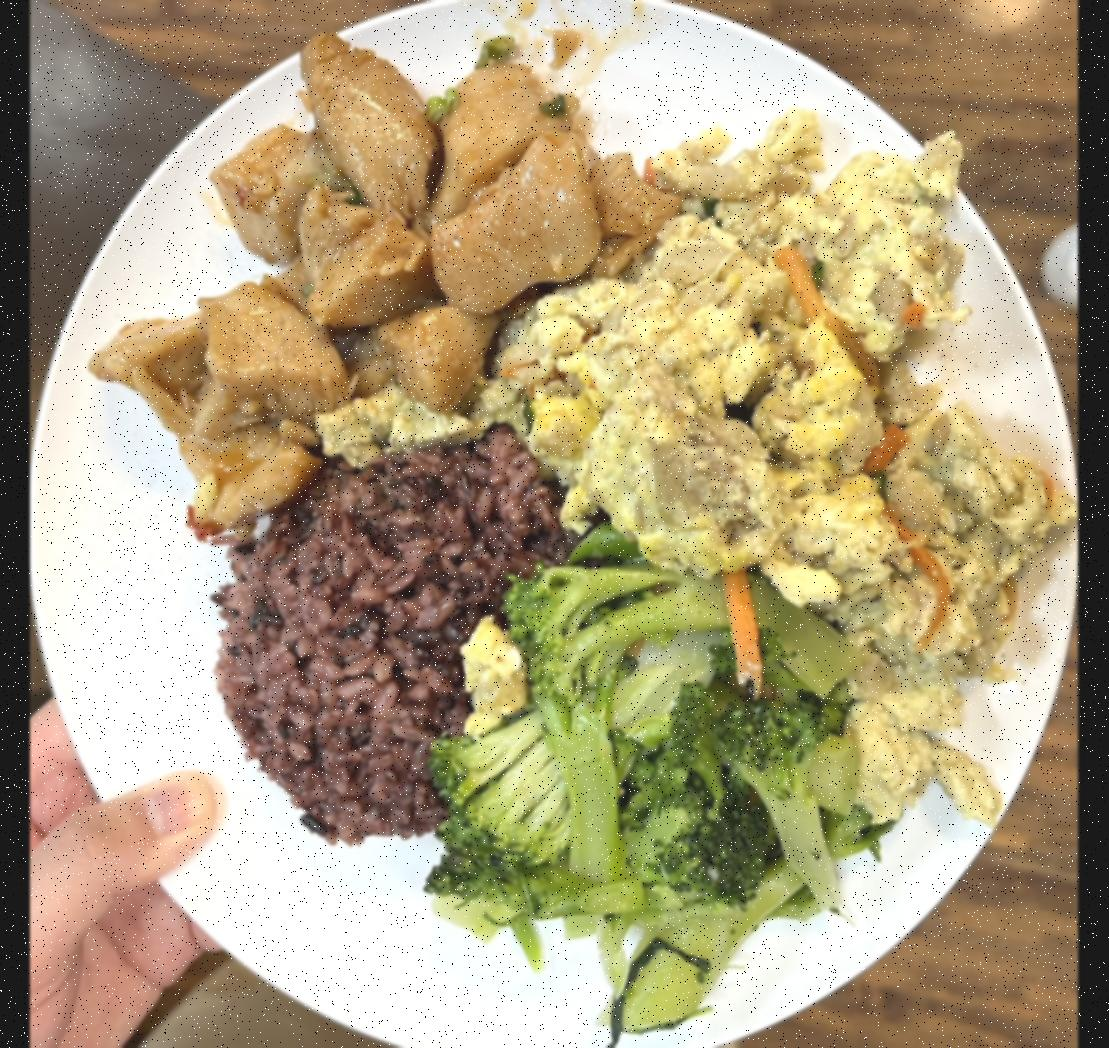big fried chicken leg: (30, 0, 1078, 1048)
braised fish: (209, 434, 576, 843)
braised fish fillet: (521, 115, 1054, 816), (424, 534, 878, 1038)
braised pork: (78, 40, 669, 530)
